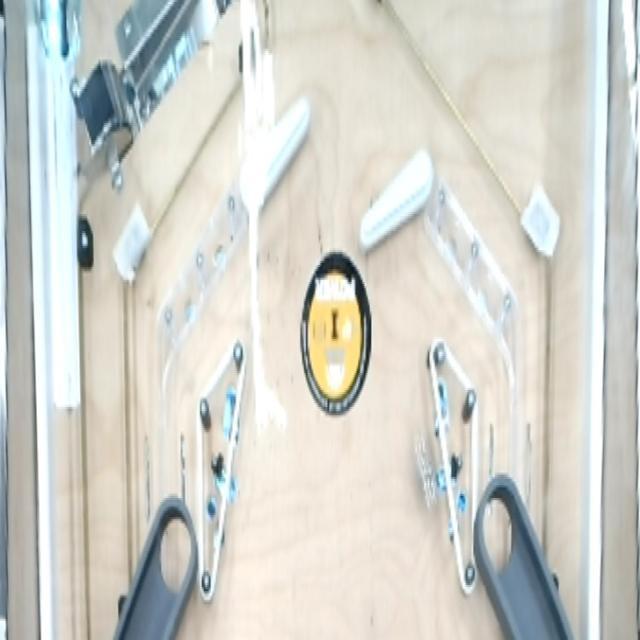ball: (409, 404, 444, 524)
flipper-left: (358, 143, 436, 260)
flipper-right: (235, 86, 314, 224)
